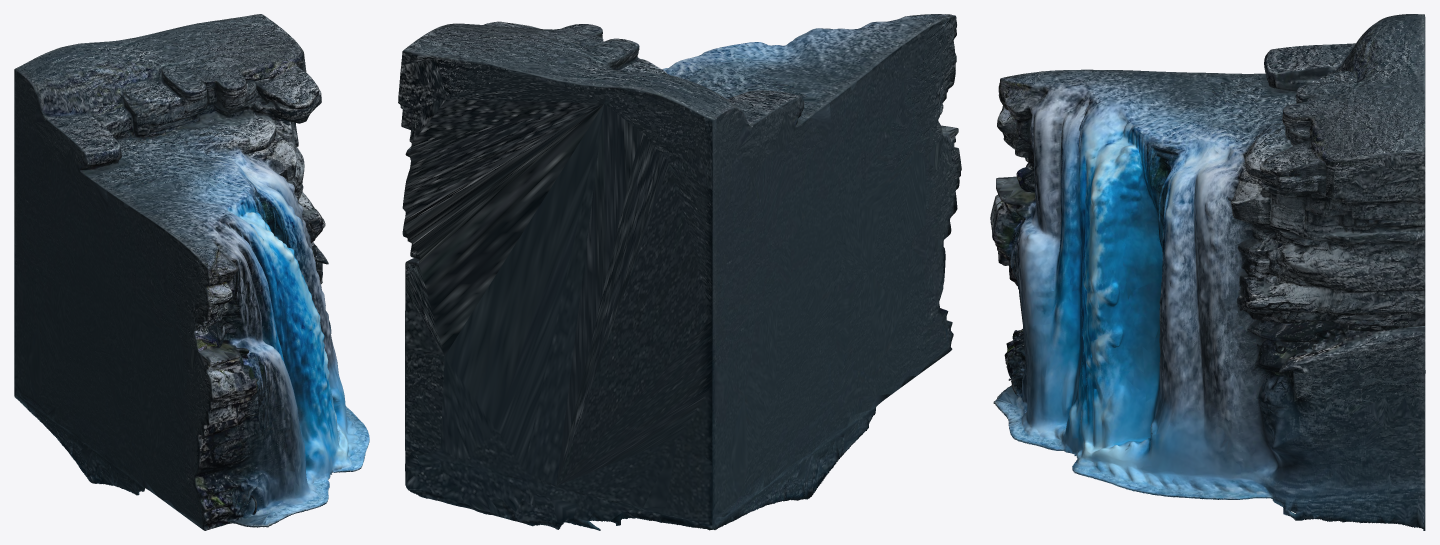
Rendered from waterfall_cliff.glb.
3 views of the same model, side by side, from view 1: azimuth 30°, elevation 25°; view 2: azimuth 150°, elevation 25°; view 3: azimuth 270°, elevation 25° (orthographic). The views are drawn at different scales.
Parts seen in each view (by area): view 1: tripo_node_b32a7dbb-85e6-4bc8-9fd5-9ea1bb88828c; view 2: tripo_node_b32a7dbb-85e6-4bc8-9fd5-9ea1bb88828c; view 3: tripo_node_b32a7dbb-85e6-4bc8-9fd5-9ea1bb88828c.
Boxes of the visible parts, x1=… form: tripo_node_b32a7dbb-85e6-4bc8-9fd5-9ea1bb88828c: x1=14, y1=14, x2=369, y2=530; tripo_node_b32a7dbb-85e6-4bc8-9fd5-9ea1bb88828c: x1=398, y1=14, x2=961, y2=530; tripo_node_b32a7dbb-85e6-4bc8-9fd5-9ea1bb88828c: x1=990, y1=14, x2=1425, y2=530.
Bounding box in the file's own units: 0.7071 × 0.9801 × 0.9575.
1 material, 1 textured.
